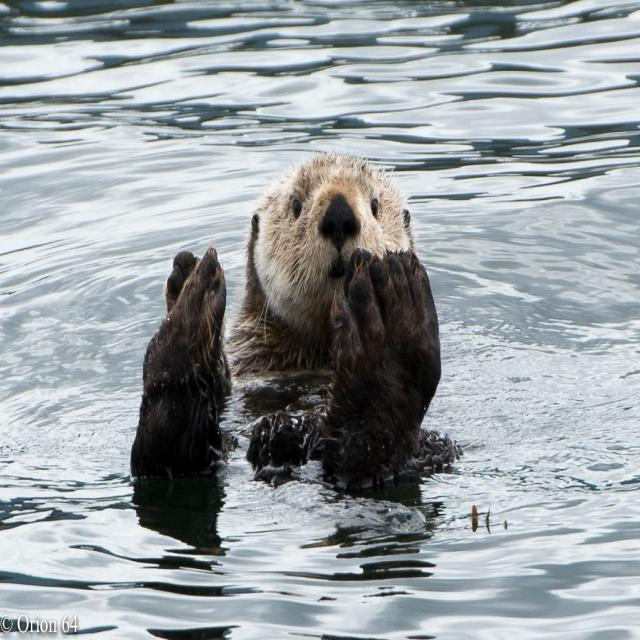otter: (143, 153, 442, 430)
